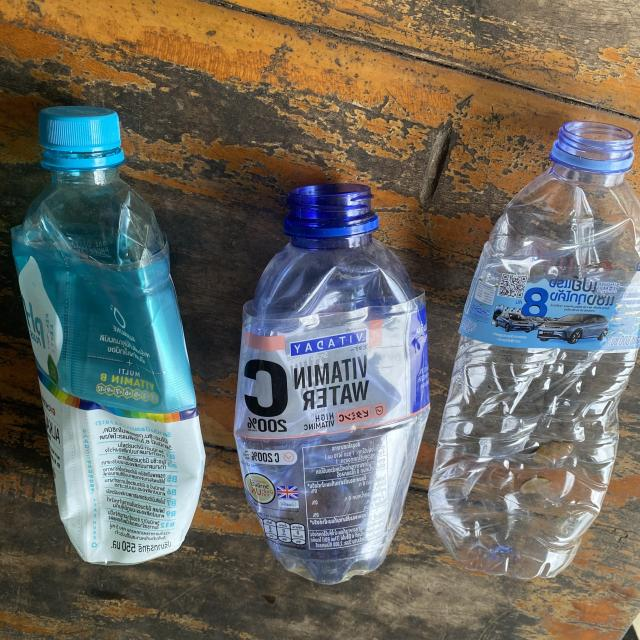plastik: (429, 122, 640, 578), (12, 106, 205, 564), (234, 184, 429, 584)
